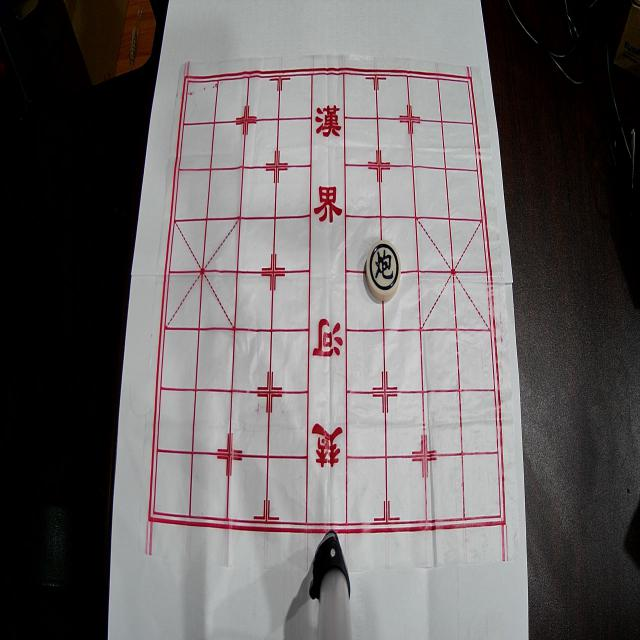black-cannon: (366, 240, 401, 301)
